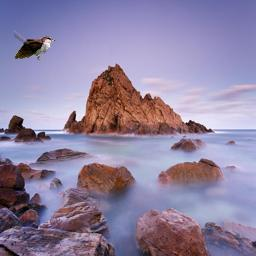Cuckoo: (14, 20, 56, 61)
